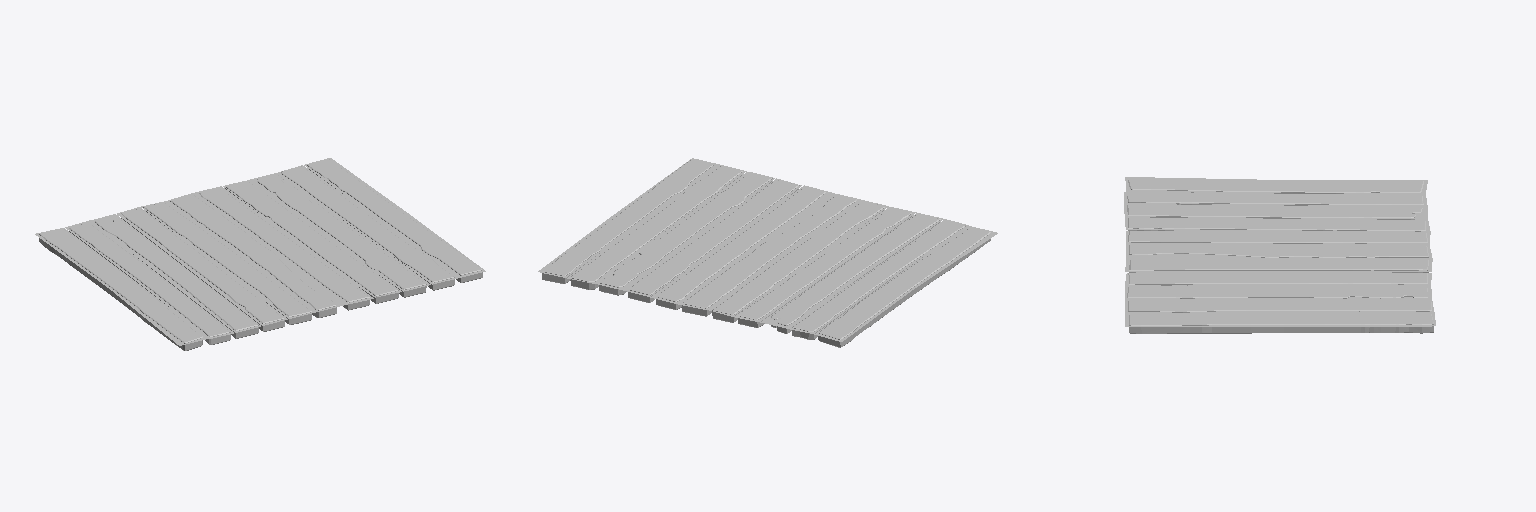
The model's file is planks.obj.
3 views of the same model, side by side, from view 1: azimuth 30°, elevation 25°; view 2: azimuth 150°, elevation 25°; view 3: azimuth 270°, elevation 25° (orthographic).
Parts seen in each view (by area): view 1: 210703-1518_APC_0149-hdr-Pano.003_210703-1518_APC_0149-hdr-Pano.; view 2: 210703-1518_APC_0149-hdr-Pano.003_210703-1518_APC_0149-hdr-Pano.; view 3: 210703-1518_APC_0149-hdr-Pano.003_210703-1518_APC_0149-hdr-Pano..
Boxes of the visible parts, box(x1,y1,x2,y2) form: 210703-1518_APC_0149-hdr-Pano.003_210703-1518_APC_0149-hdr-Pano.: box(35, 158, 485, 350); 210703-1518_APC_0149-hdr-Pano.003_210703-1518_APC_0149-hdr-Pano.: box(538, 158, 997, 347); 210703-1518_APC_0149-hdr-Pano.003_210703-1518_APC_0149-hdr-Pano.: box(1124, 177, 1435, 333).
Size of the model in its own units: 32.3 by 0.9648 by 28.4.